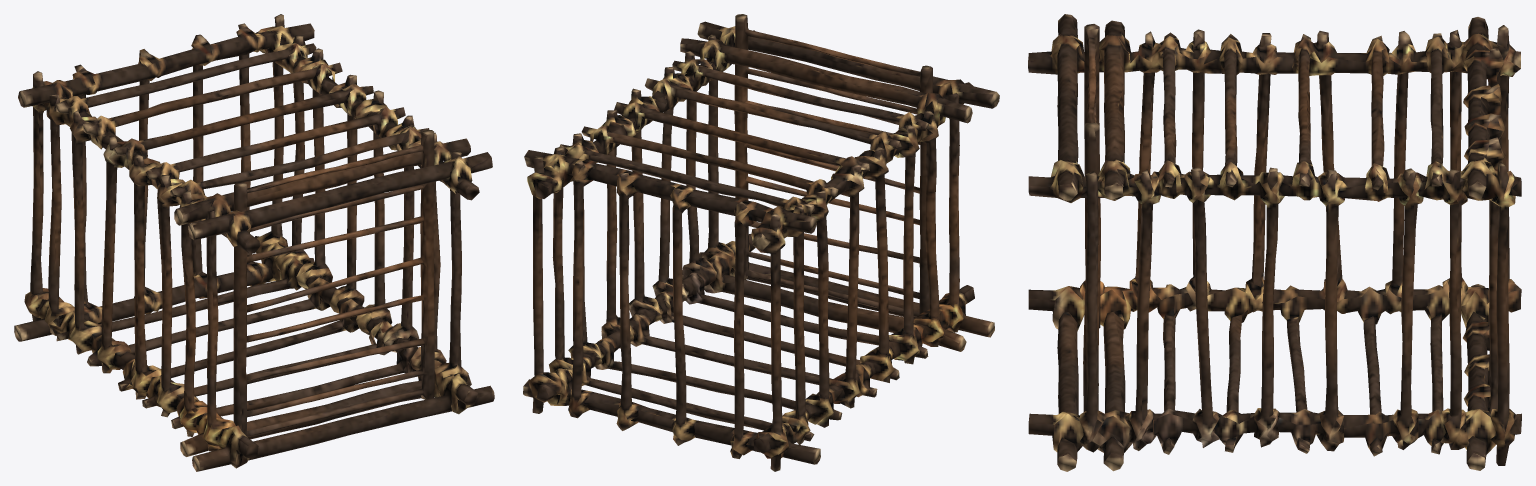
File: cage.FBX
3 views of the same model, side by side, from view 1: azimuth 30°, elevation 25°; view 2: azimuth 150°, elevation 25°; view 3: azimuth 270°, elevation 25° (orthographic). The views are drawn at different scales.
Parts seen in each view (by area): view 1: Cage; view 2: Cage; view 3: Cage.
Boxes of the visible parts, box(x1,y1,x2,y2) form: Cage: box(14, 14, 494, 471); Cage: box(523, 14, 999, 471); Cage: box(1028, 14, 1521, 471).
Bounding box in the file's own units: 44.42 × 39.61 × 54.84.
